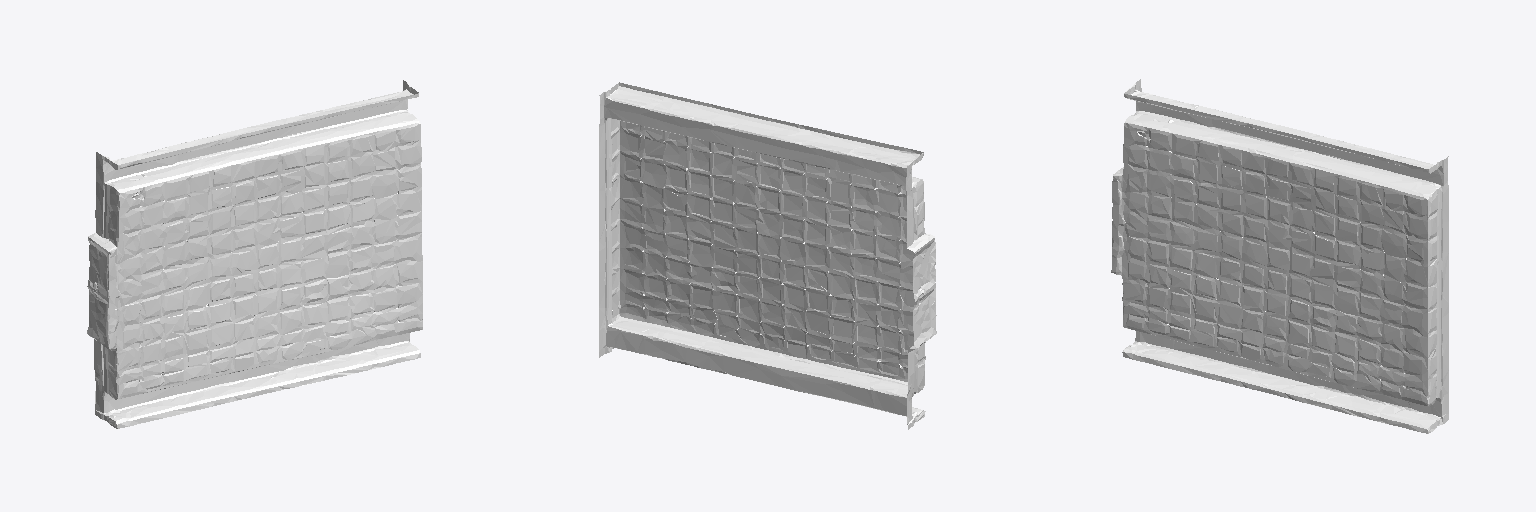
File: Techo.obj
3 renders of one model, left to right at view 1: azimuth 30°, elevation 25°; view 2: azimuth 150°, elevation 25°; view 3: azimuth 330°, elevation 25°, orthographic.
Parts seen in each view (by area): view 1: default; view 2: default; view 3: default.
Boxes of the visible parts, box(x1,y1,x2,y2) form: default: box(87, 80, 422, 428); default: box(599, 82, 936, 429); default: box(1111, 79, 1448, 433).
Bounding box in the file's own units: 2.37 × 1.9 × 0.2813.